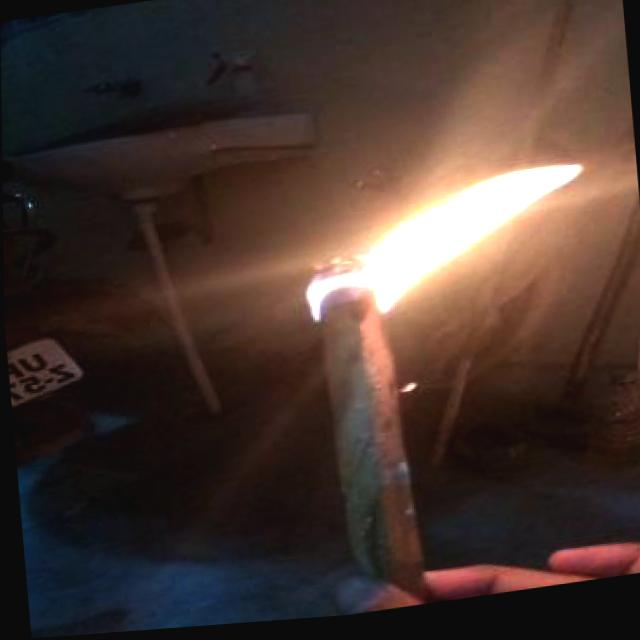Fire: (297, 136, 617, 332)
